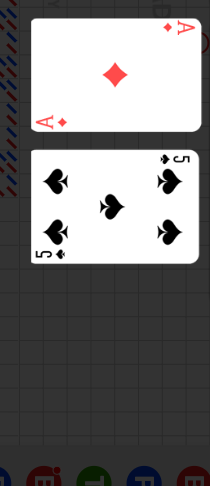5S: (34, 248, 67, 260)
AD: (160, 21, 196, 37)
